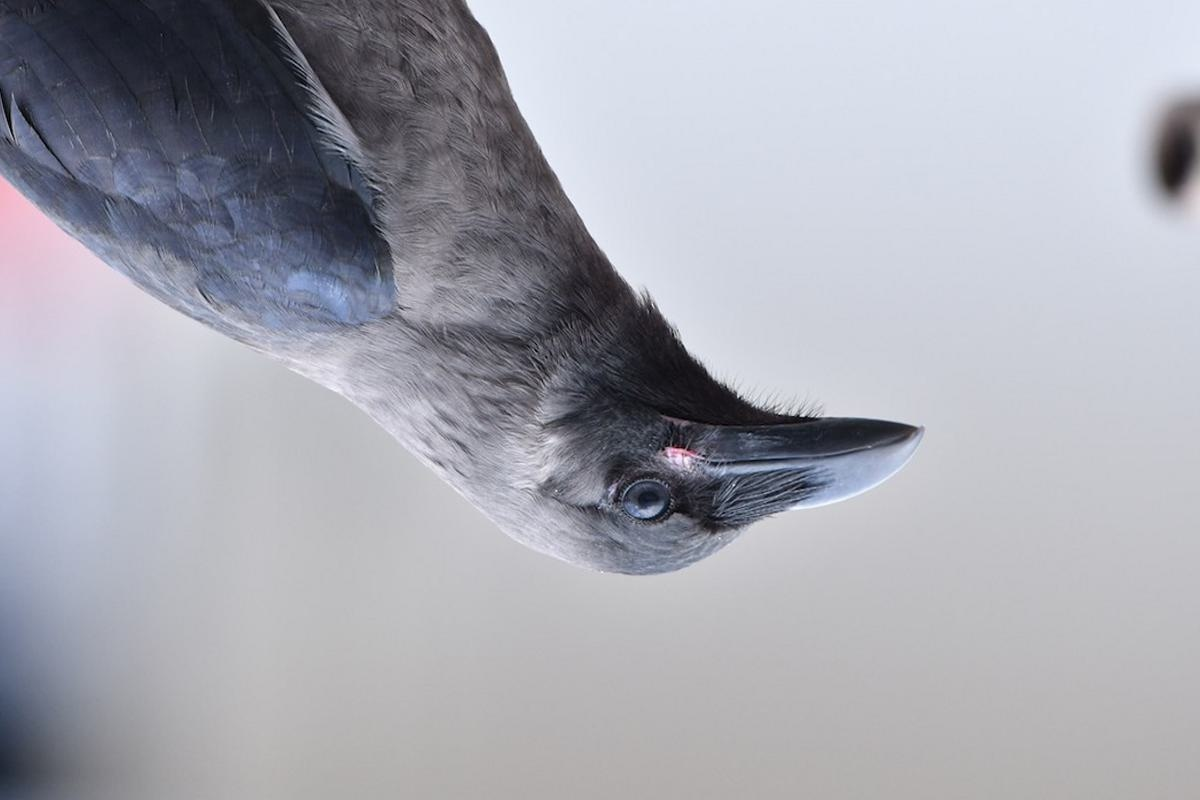crow: (1, 1, 943, 591)
